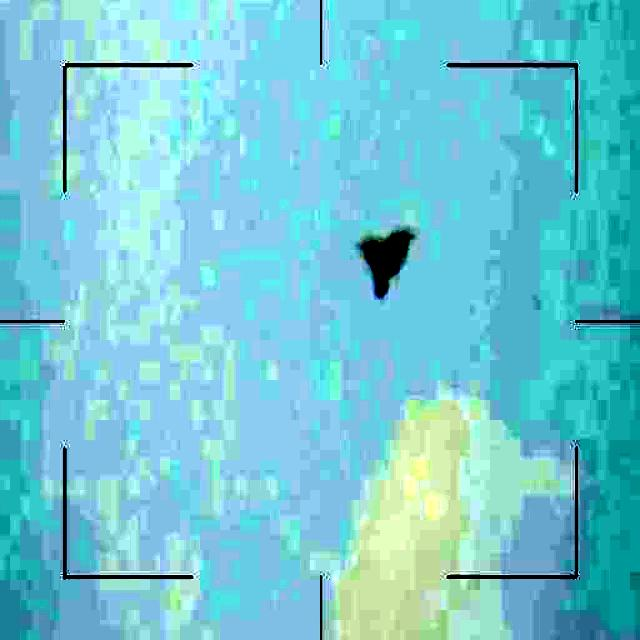bird: (361, 219, 412, 295)
